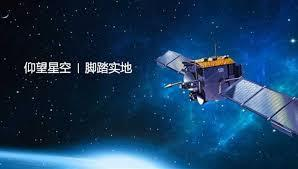antenna: (182, 70, 198, 93), (194, 87, 207, 106)
body: (180, 53, 239, 106)
solar: (220, 77, 298, 137), (155, 48, 195, 76)
